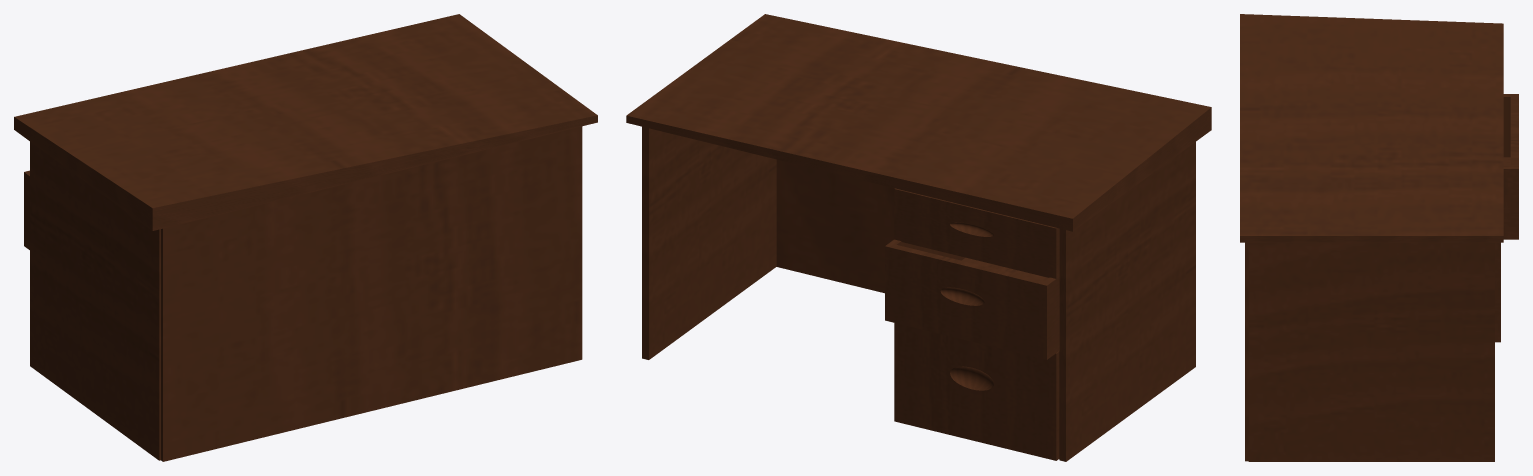
Rendered from goblindesktextured.fbx.
The picture shows the model from 3 angles, left to right: view 1: azimuth 30°, elevation 25°; view 2: azimuth 150°, elevation 25°; view 3: azimuth 270°, elevation 25°; orthographic projection. The views are drawn at different scales.
Parts seen in each view (by area): view 1: pCube7; view 2: pCube7; view 3: pCube7.
Boxes of the visible parts, <box> form: pCube7: <box>14,14,597,461</box>; pCube7: <box>626,14,1211,461</box>; pCube7: <box>1240,14,1518,461</box>.
Bounding box in the file's own units: 12.67 × 7.04 × 7.22.
